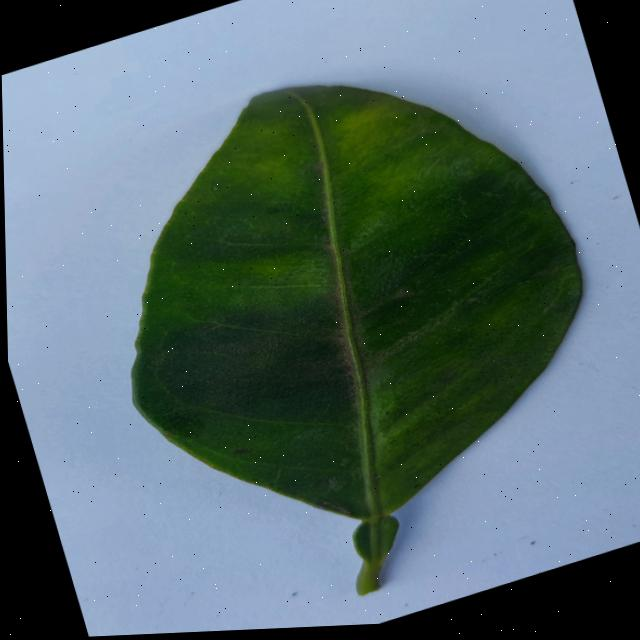greening: (134, 85, 581, 523)
